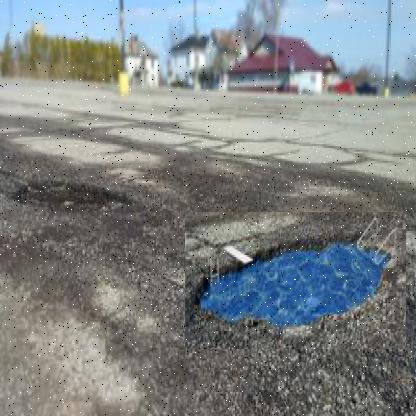pothole: (185, 212, 407, 350), (18, 161, 131, 225)
